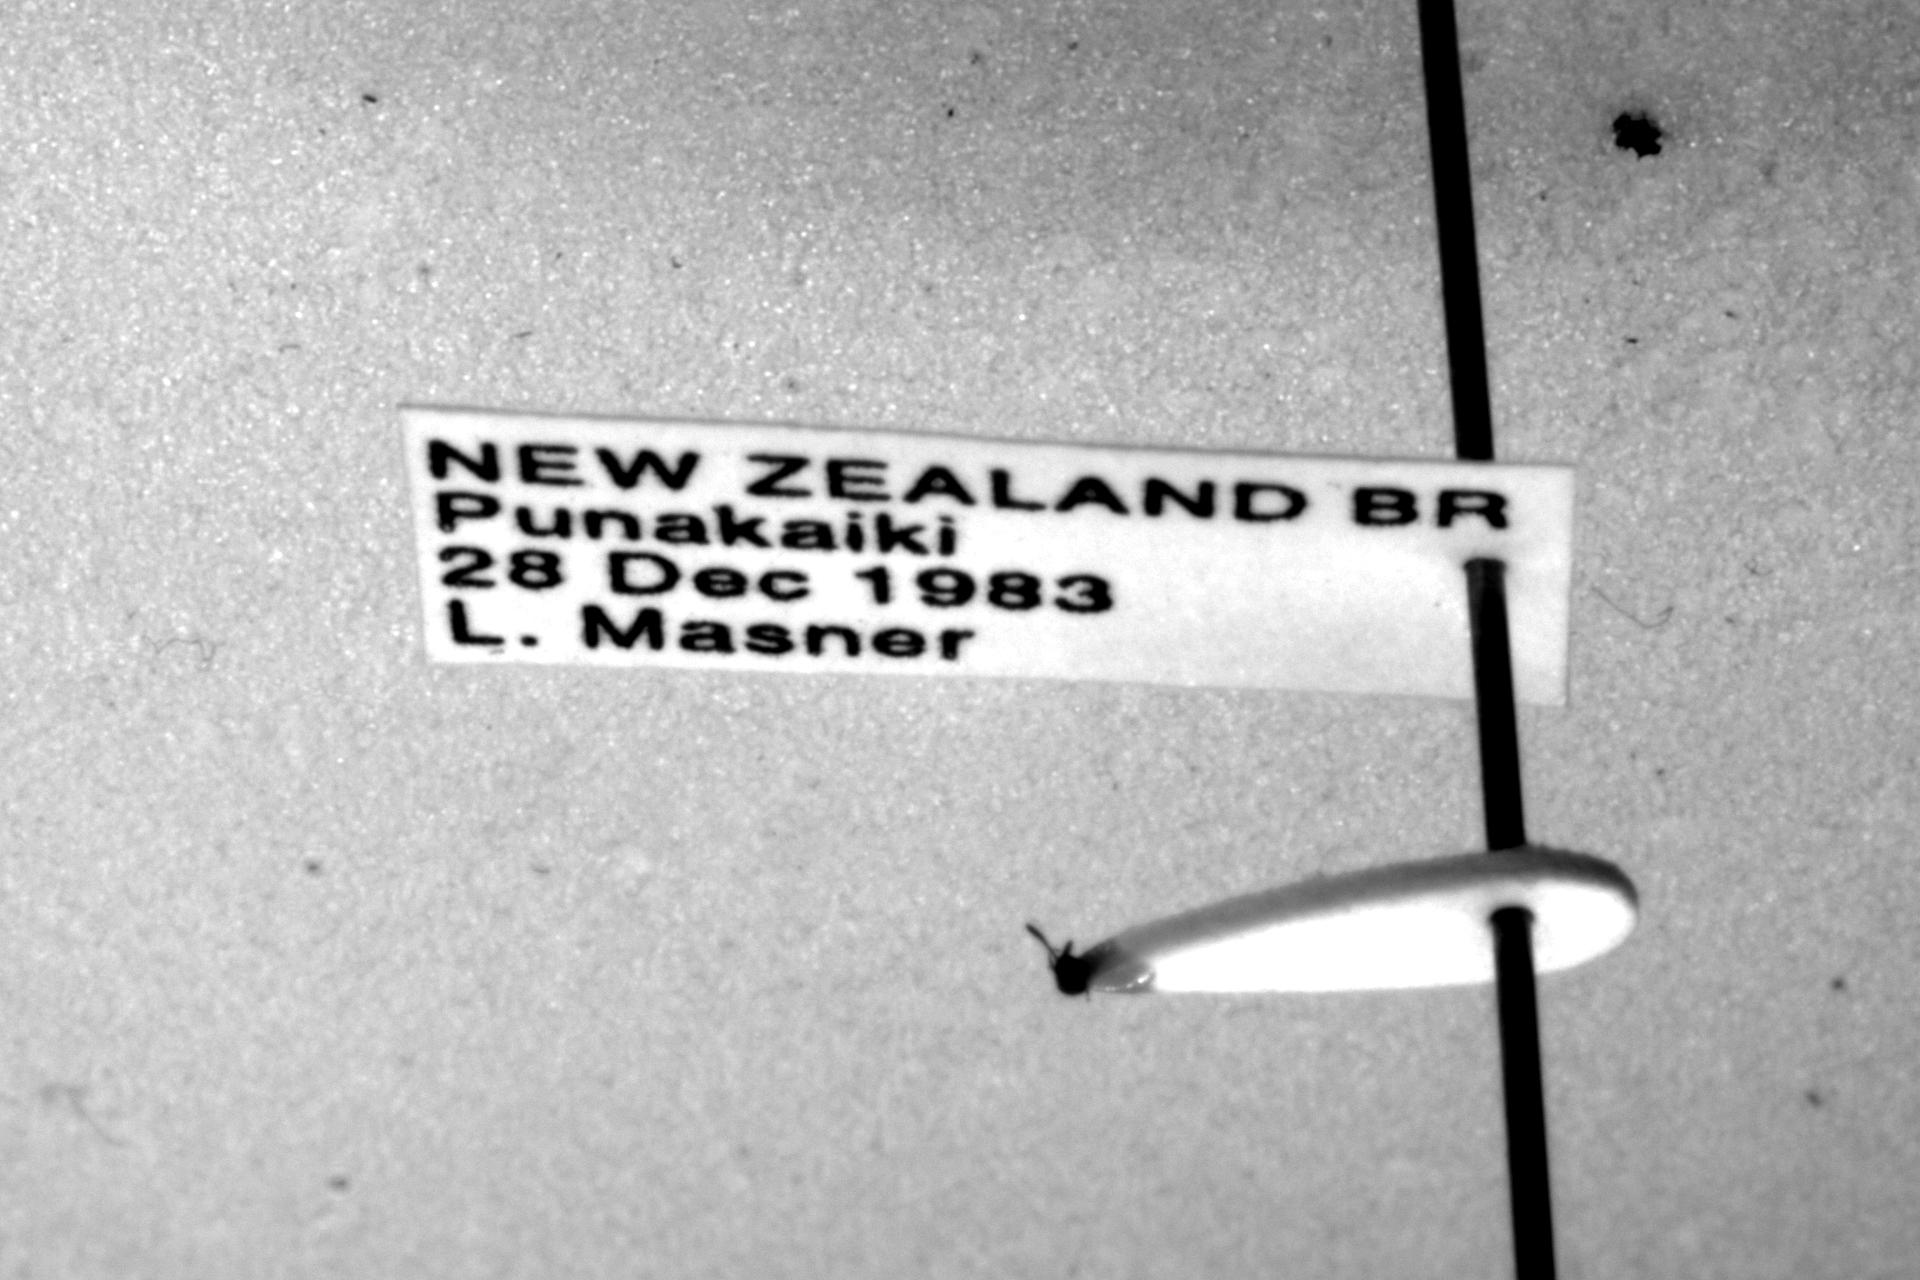typed_label: (401, 409, 1575, 705)
